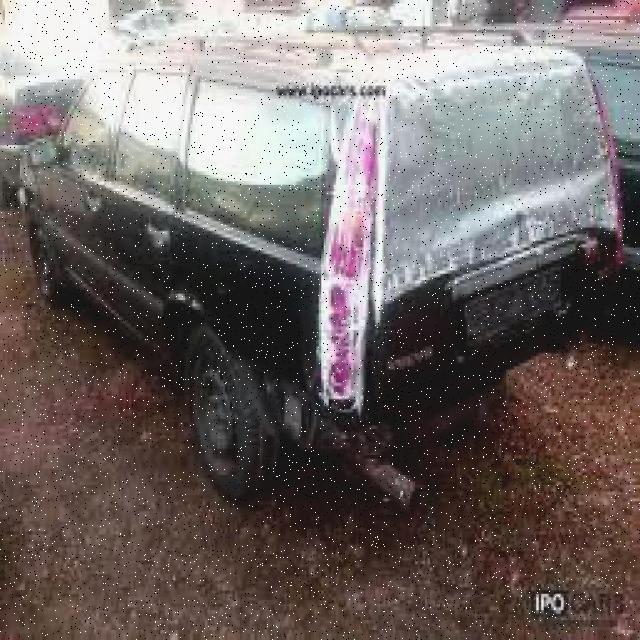car damage: (234, 58, 622, 473)
